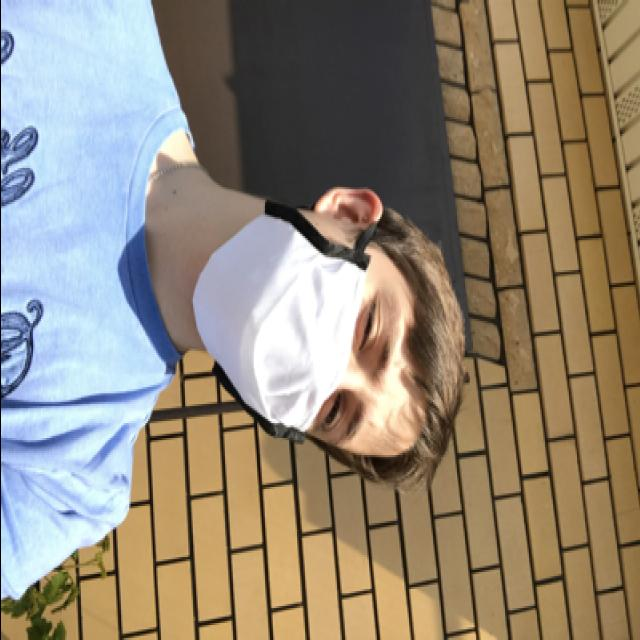with_mask: (194, 192, 404, 462)
